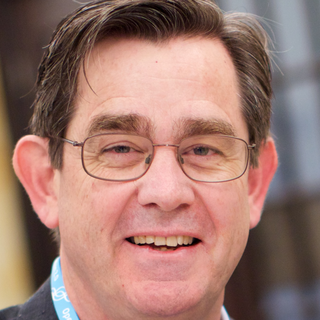eye: (90, 139, 147, 162), (179, 140, 223, 163)
